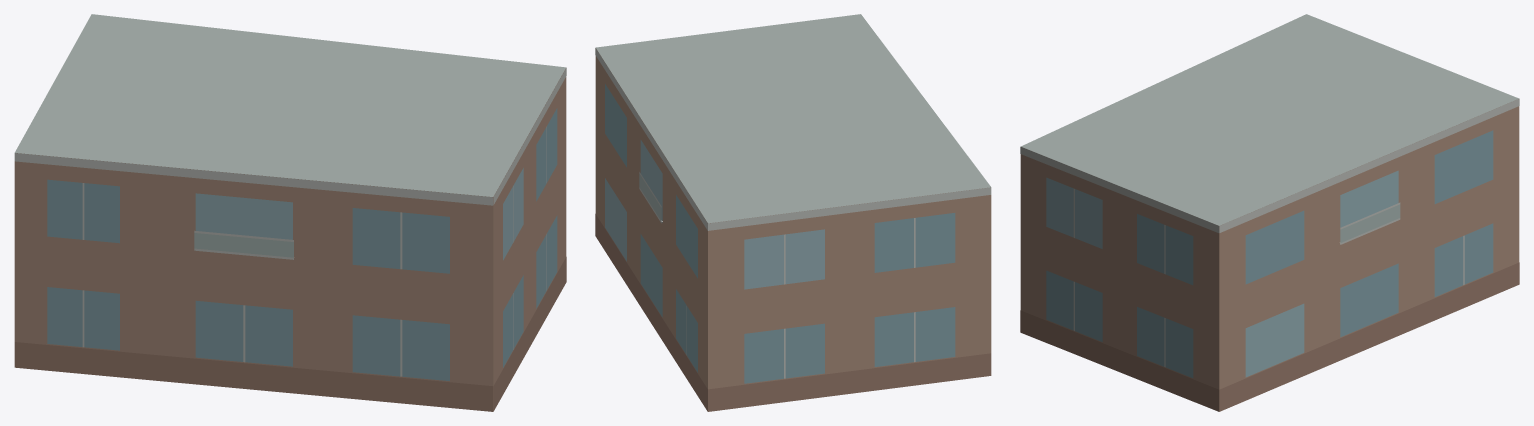
Rendered from survey-upis-32722087.glb.
3 renders of one model, left to right at view 1: azimuth 30°, elevation 25°; view 2: azimuth 150°, elevation 25°; view 3: azimuth 270°, elevation 25°, orthographic. The views are drawn at different scales.
Parts seen in each view (by area): view 1: survey-upis-32722087.tmp; view 2: survey-upis-32722087.tmp; view 3: survey-upis-32722087.tmp.
Part boxes in pixels (box(x1,y1,x2,y2)): survey-upis-32722087.tmp: box(14, 14, 566, 411); survey-upis-32722087.tmp: box(595, 14, 991, 411); survey-upis-32722087.tmp: box(1020, 14, 1519, 411).
Size of the model in its own units: 14.91 by 6.1 by 14.84.
